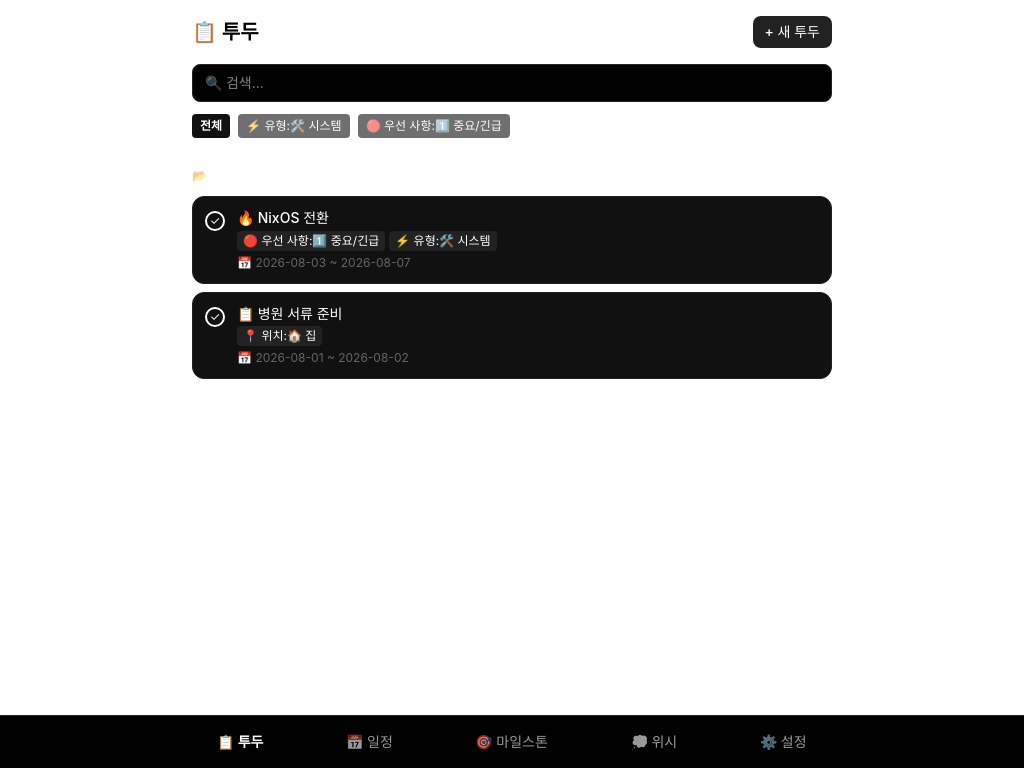
Test: SettingsPage › renders settings page with PAT input
Click the link "⚙️ 설정": coordinates (783, 742) [760,733,807,750]
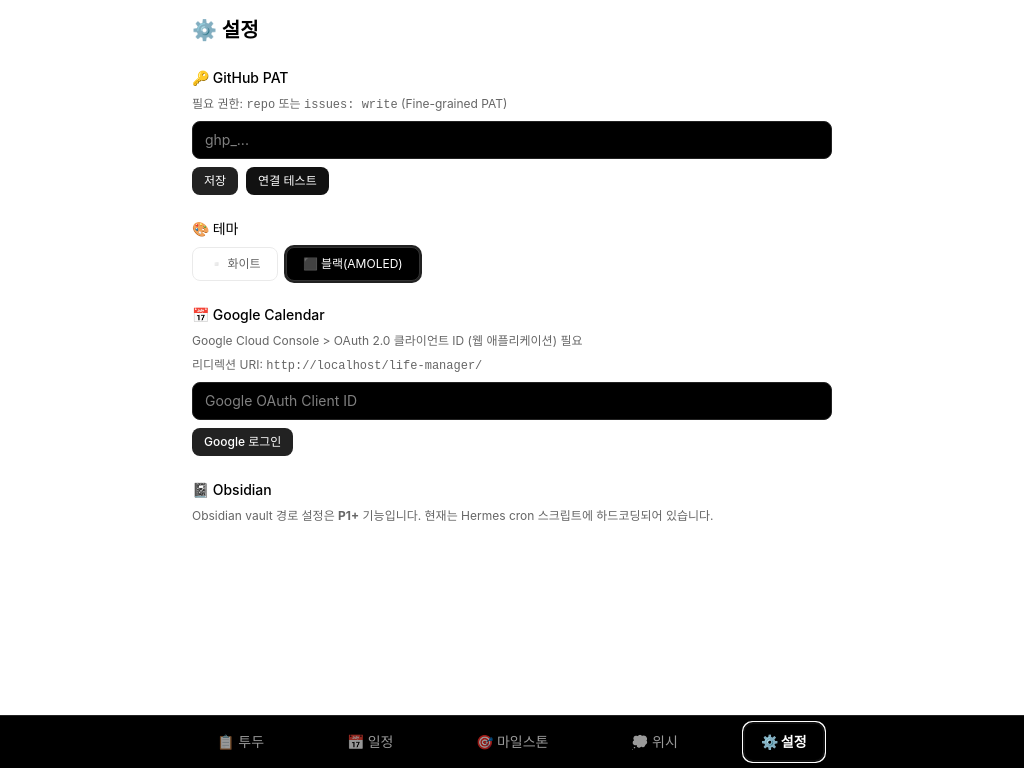
Expected: the password field with placeholder "ghp_..." is shown, [192,121,832,159]
